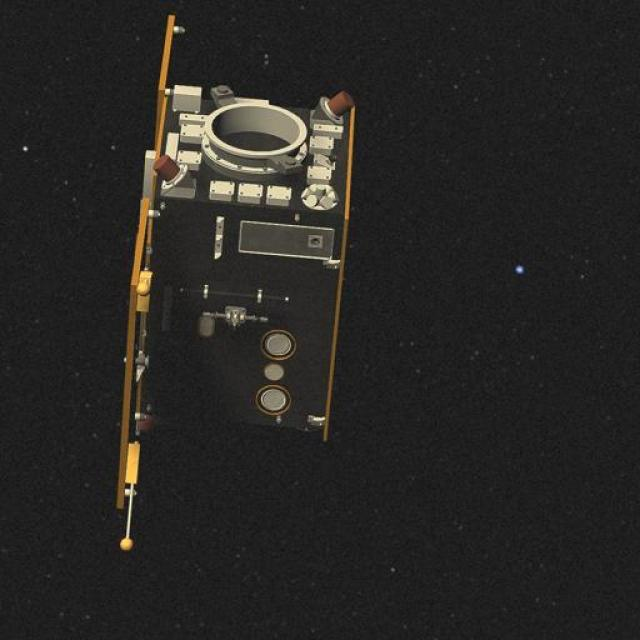proba_2: (70, 39, 400, 561)
